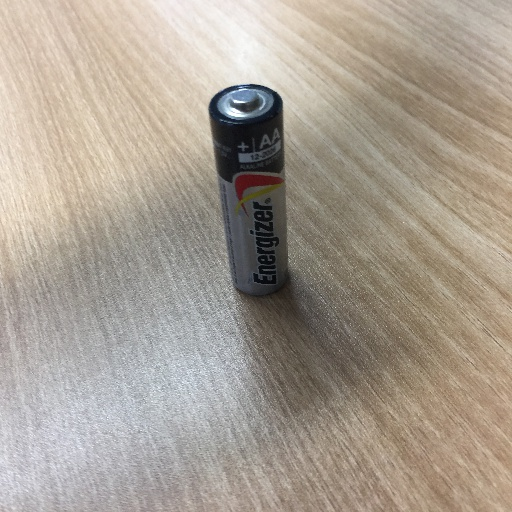Battery_0: (188, 71, 303, 314)
